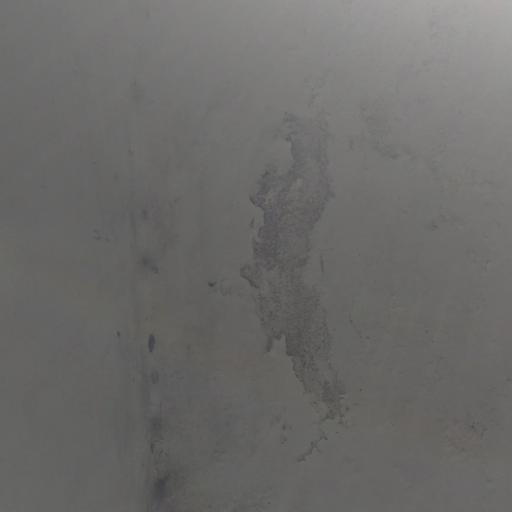peeling: (227, 86, 398, 462)
